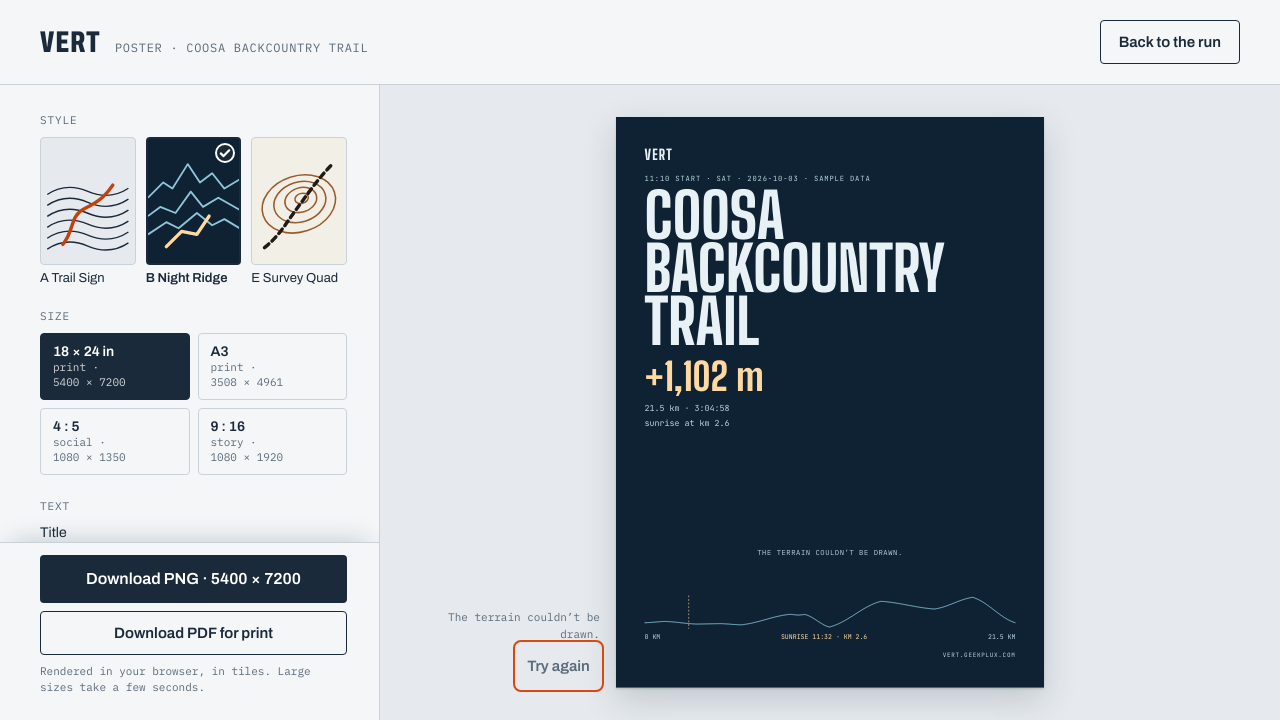
it: Live poster figures › B: Download with Try again focused, export cancelled: focus never drops to the page as the preview recovers
expect the button "Try again" is shown: met, box [517, 644, 600, 688]
Click the button "Download PNG · 5400 × 7200" at [194, 579], box [40, 555, 347, 603]
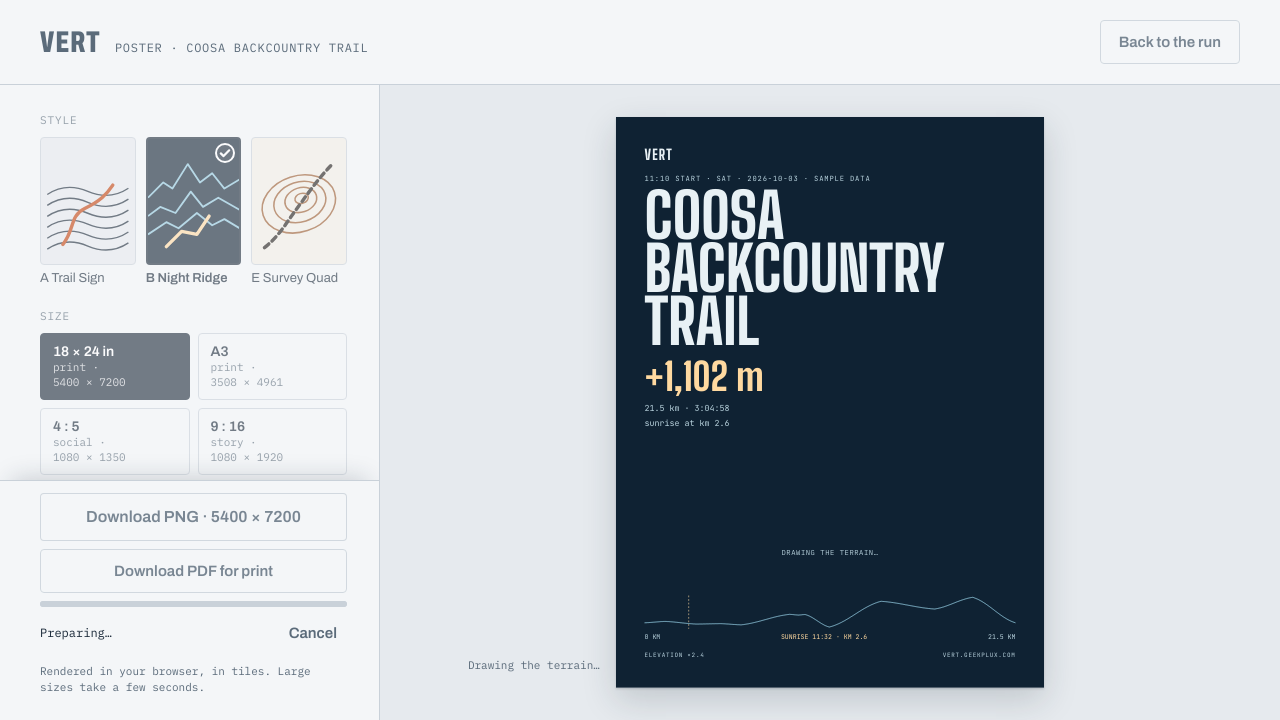
expect the text "Drawing the terrain…" is shown: met, box [468, 657, 600, 675]
Click the button "Cancel" at [313, 633], box [279, 611, 347, 655]
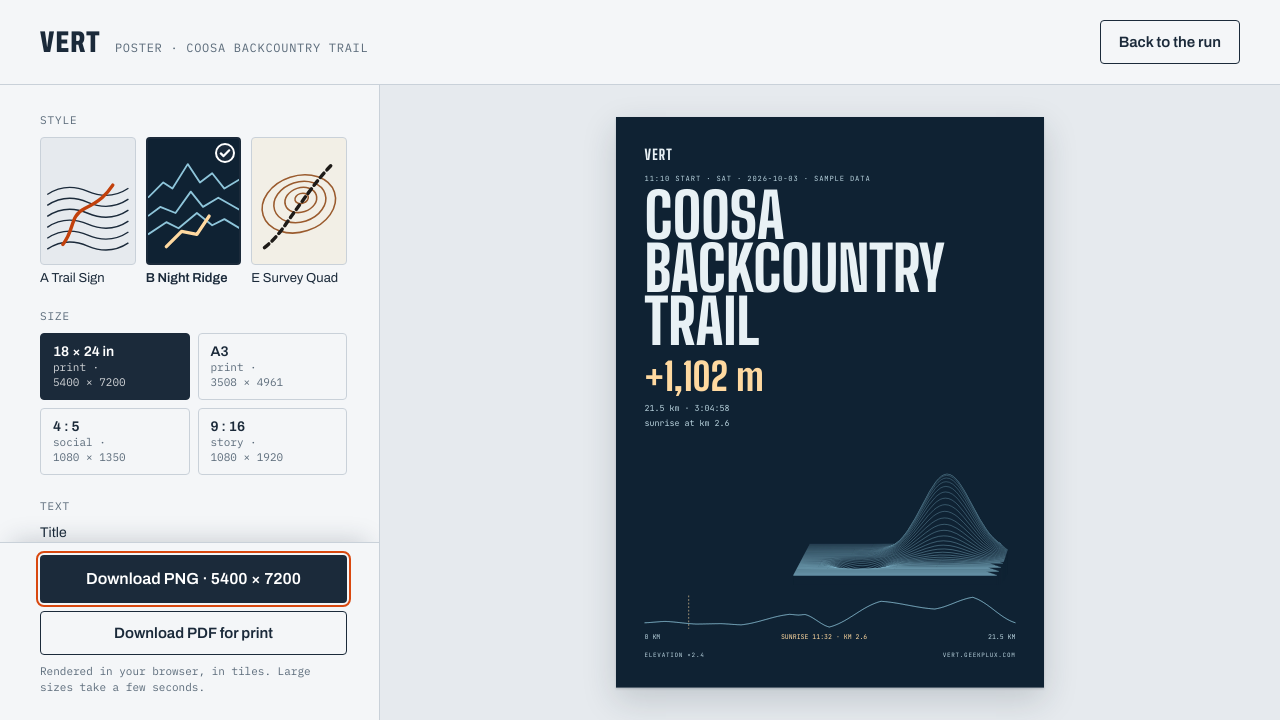
expect the button "Download PNG · 5400 × 7200" is shown: met, box [40, 555, 347, 603]
expect the text "Drawing the terrain…" is gone: met
